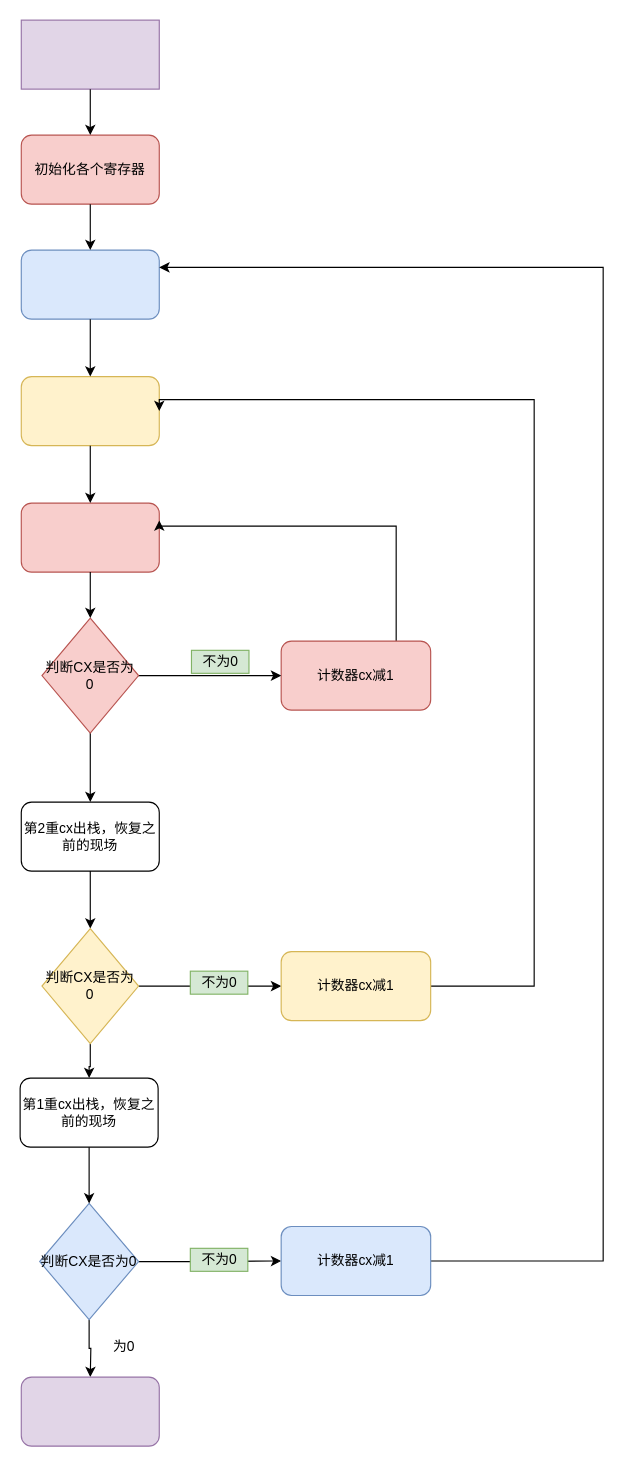
Image size: 633x1466. Some labels were removed from this diagram. The shapes that lost their labels are listed below. From the top down, each one's centre as x and y in pixels, then its label:
At point (89, 54): "开始程序".
At point (89, 284): "将第1重循环计数器cx压栈，并初始化第2重循环".
At point (89, 410): "将第2重循环计数器cx压栈，并初始化第3重循环".
At point (89, 537): "将需要输出的字符输出到屏幕".
At point (89, 1411): "结束程序".
